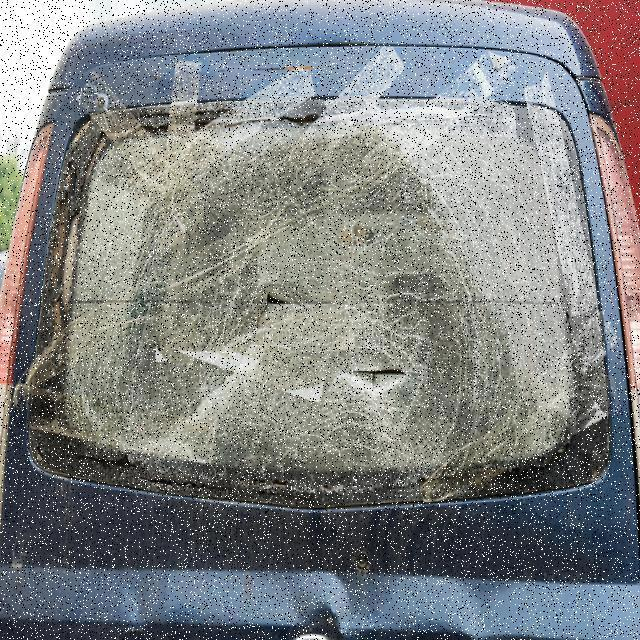Rear-windscreen-Damage: (34, 71, 632, 562)
